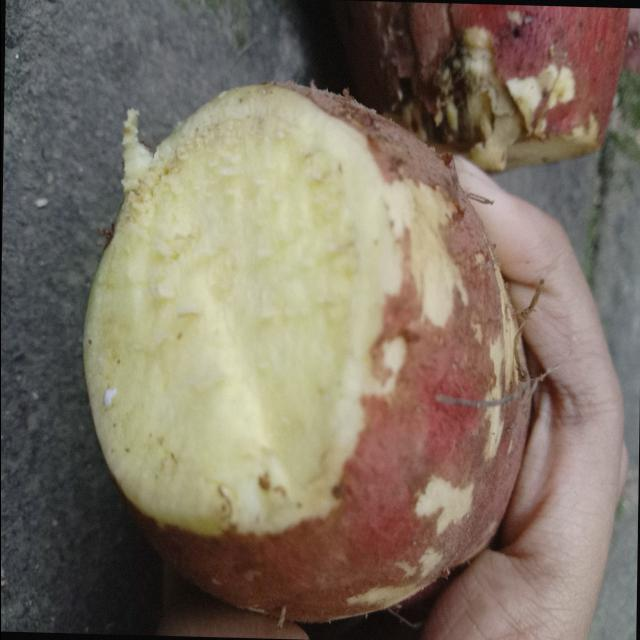Healthy Sweet Potato: (84, 85, 400, 535)
